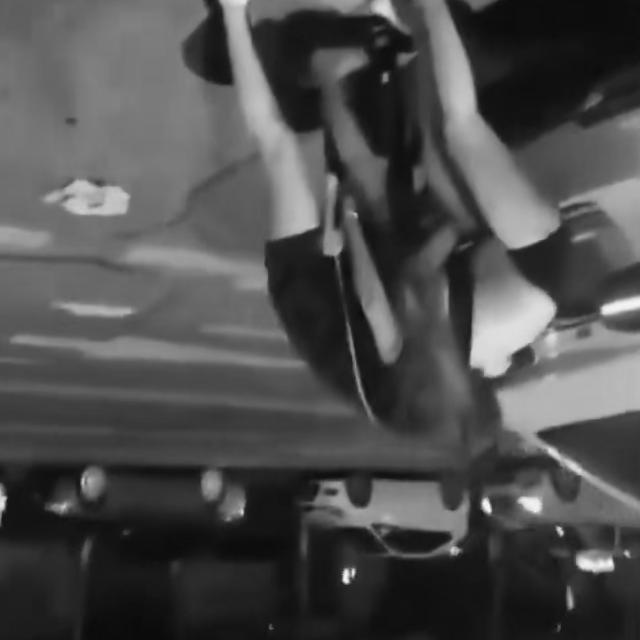fight: (269, 130, 585, 474)
